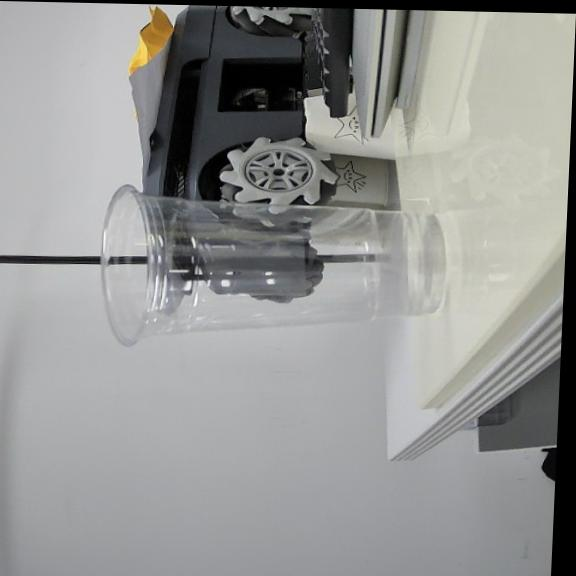Plastik: (97, 184, 445, 345)
